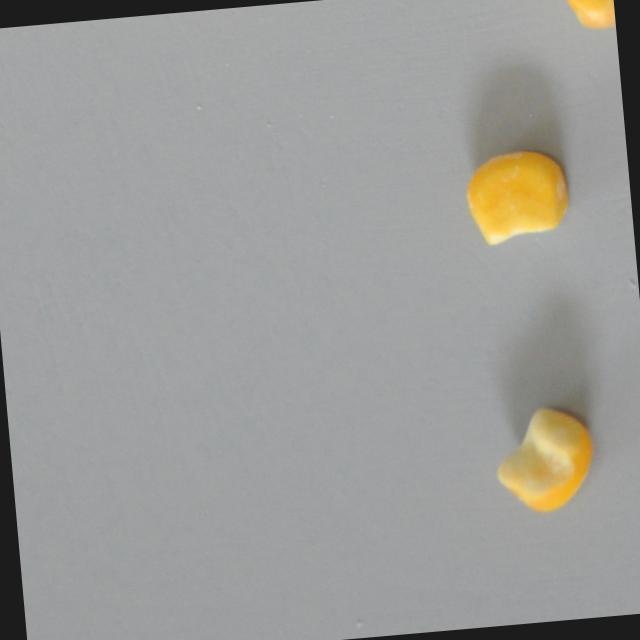no_canjicado: (489, 398, 598, 514), (542, 0, 616, 33)
pelicula: (461, 143, 572, 245)
